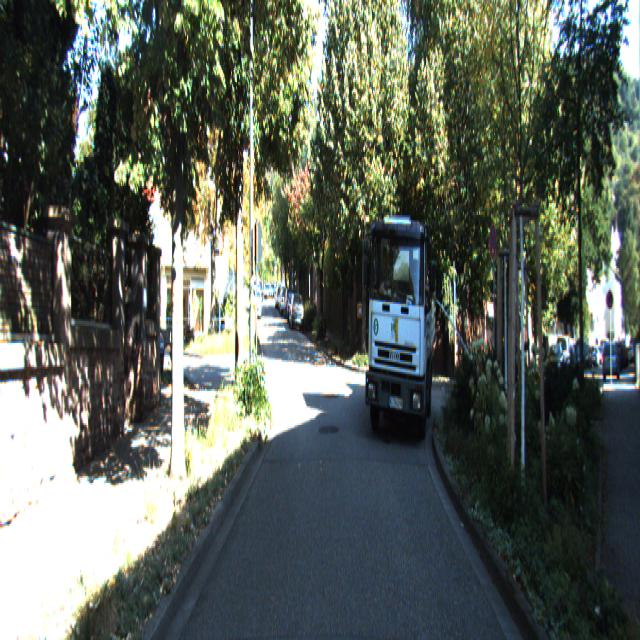Car: (364, 203, 435, 452), (602, 340, 620, 380), (290, 292, 305, 333), (251, 287, 262, 321)
